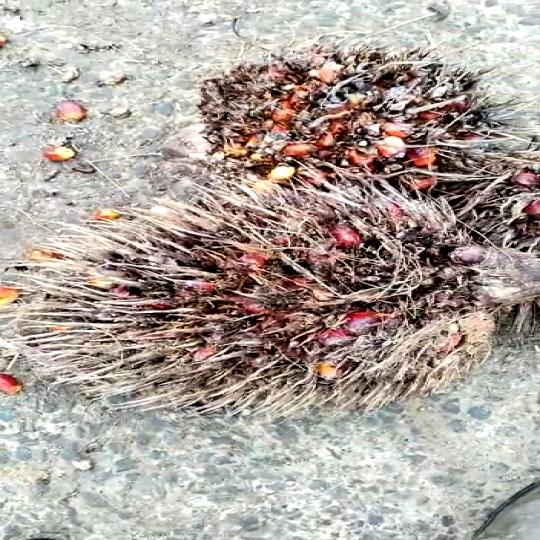terlalu masak: (0, 188, 525, 405), (166, 55, 525, 186)
